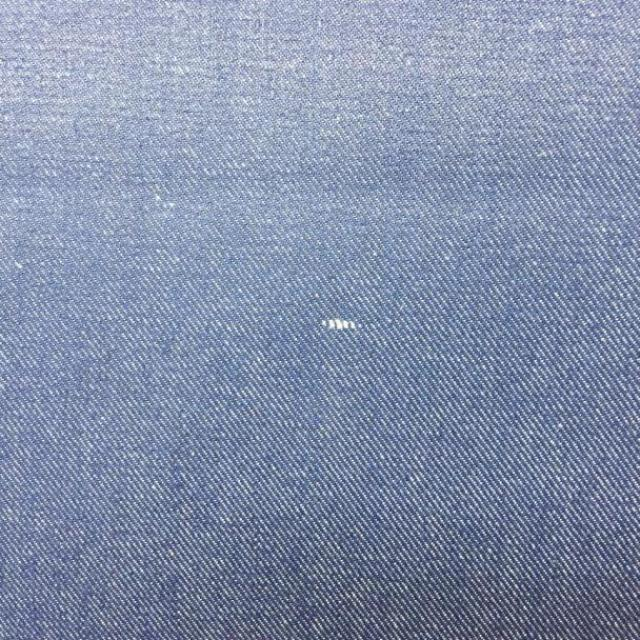Knot: (322, 321, 356, 330)
